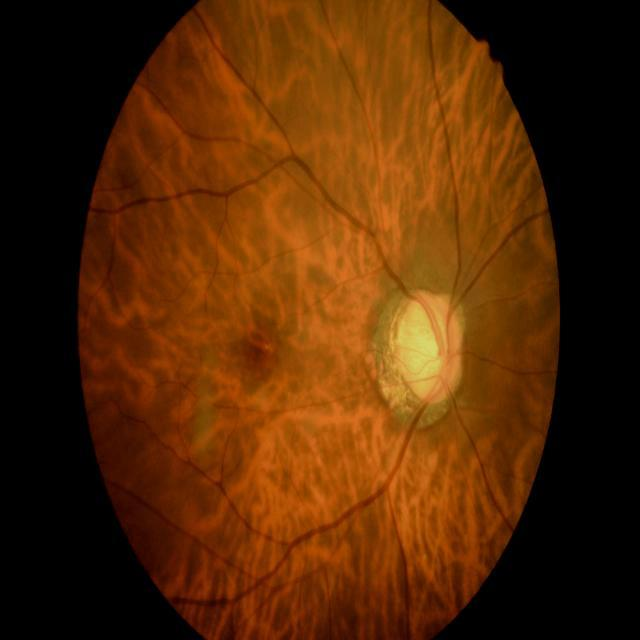cup: (412, 302, 452, 400)
disk: (396, 291, 464, 407)
